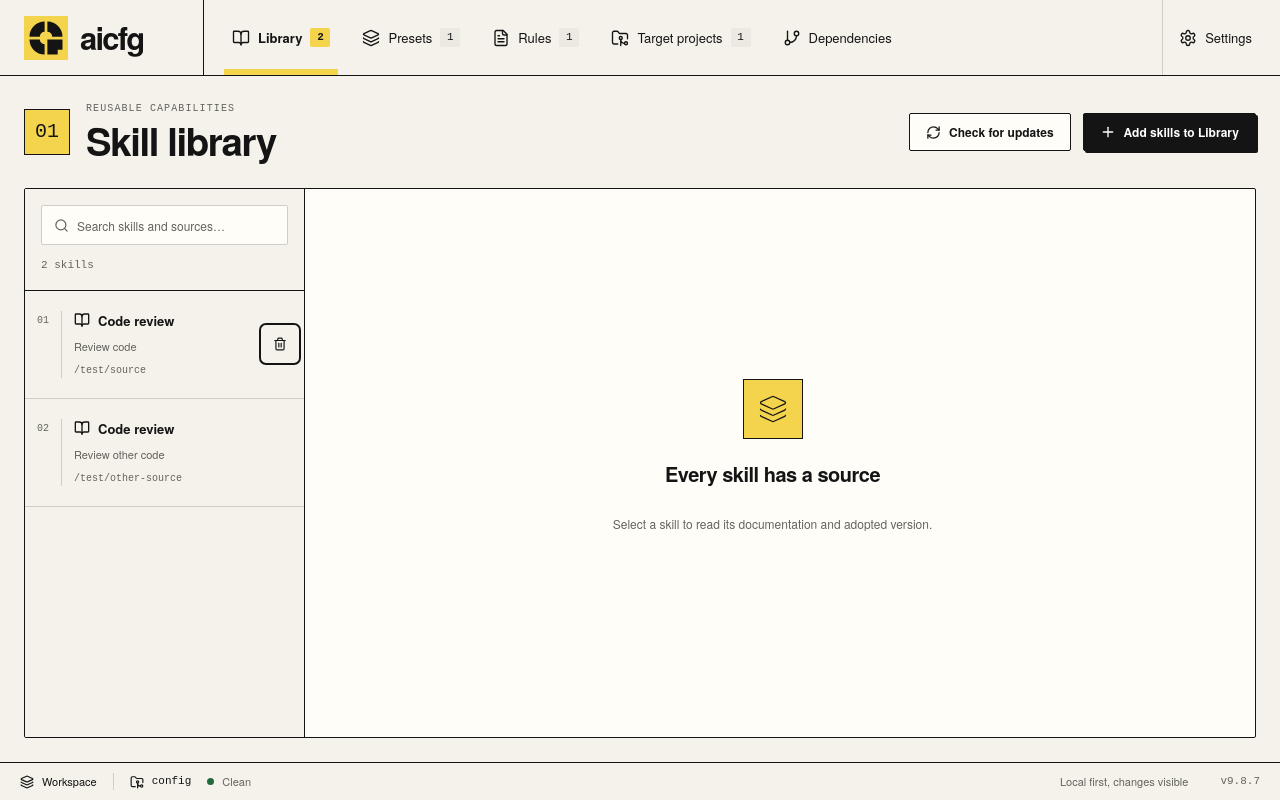
Test case: Deletion request state › keeps failed deletions open and shows the error in the confirmation
This screenshot has width=1280, height=800.
Click the button named "Delete Code review" at {"x": 280, "y": 344}, box x1=264 y1=328 x2=296 y2=360
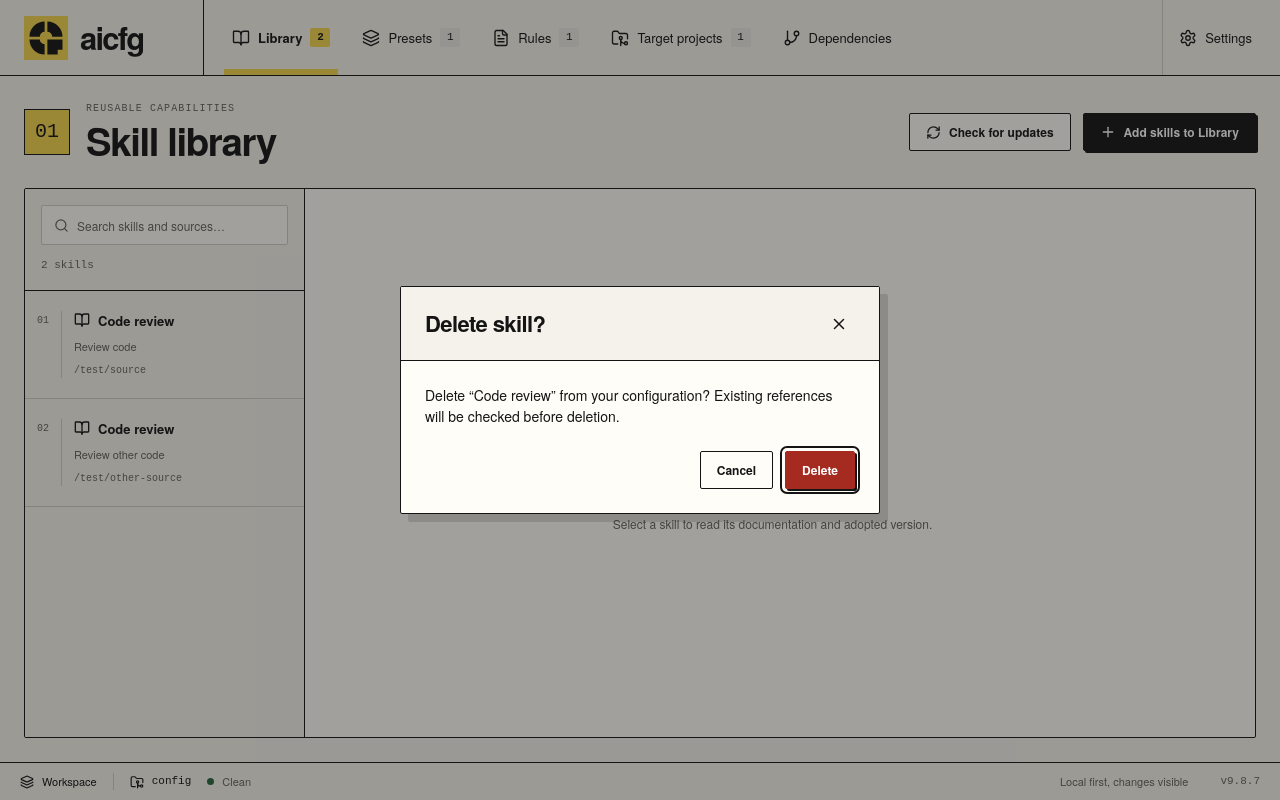
Click the button "Delete" at {"x": 820, "y": 470}, box x1=785 y1=451 x2=855 y2=489
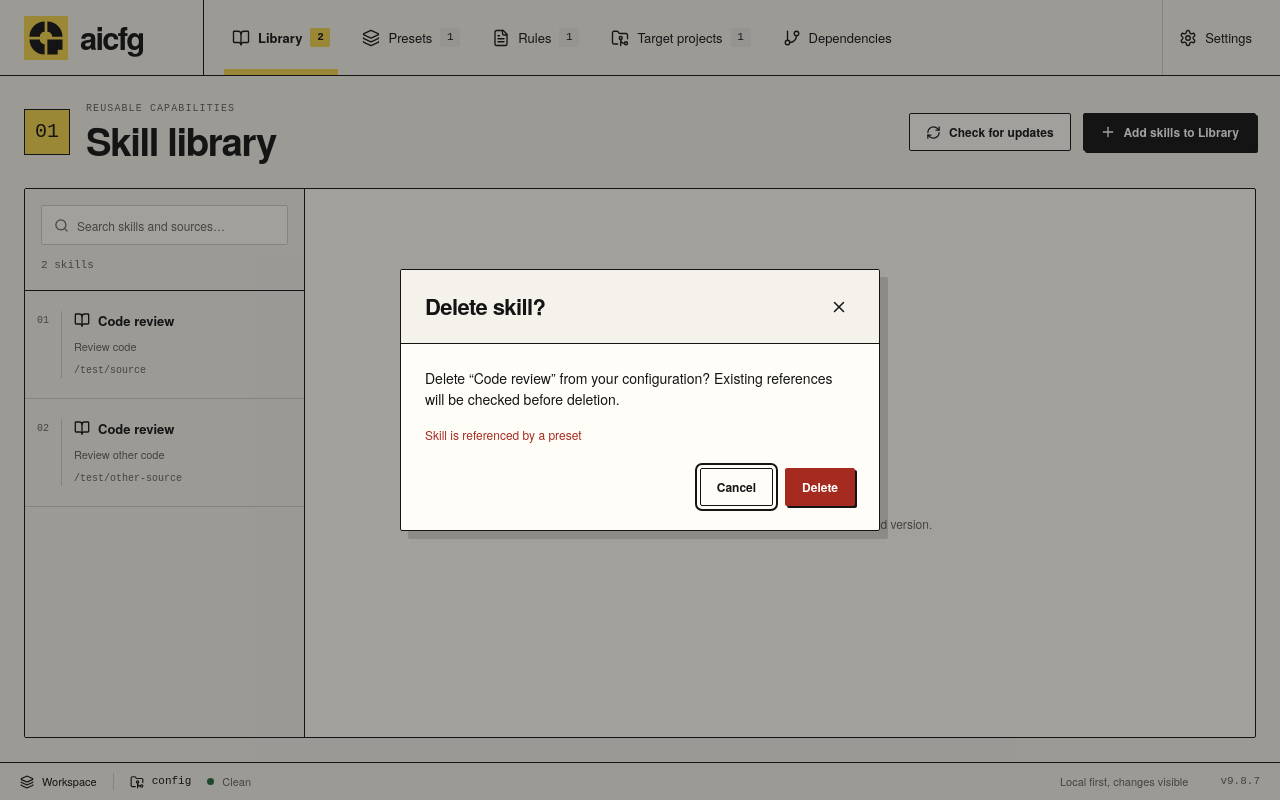
Check: the button "Cancel" is enabled
Check: the message "Skill is referenced by a preset" is shown, box x1=425 y1=426 x2=582 y2=443
Click the button "Cancel" at {"x": 736, "y": 487}, box x1=700 y1=468 x2=773 y2=506
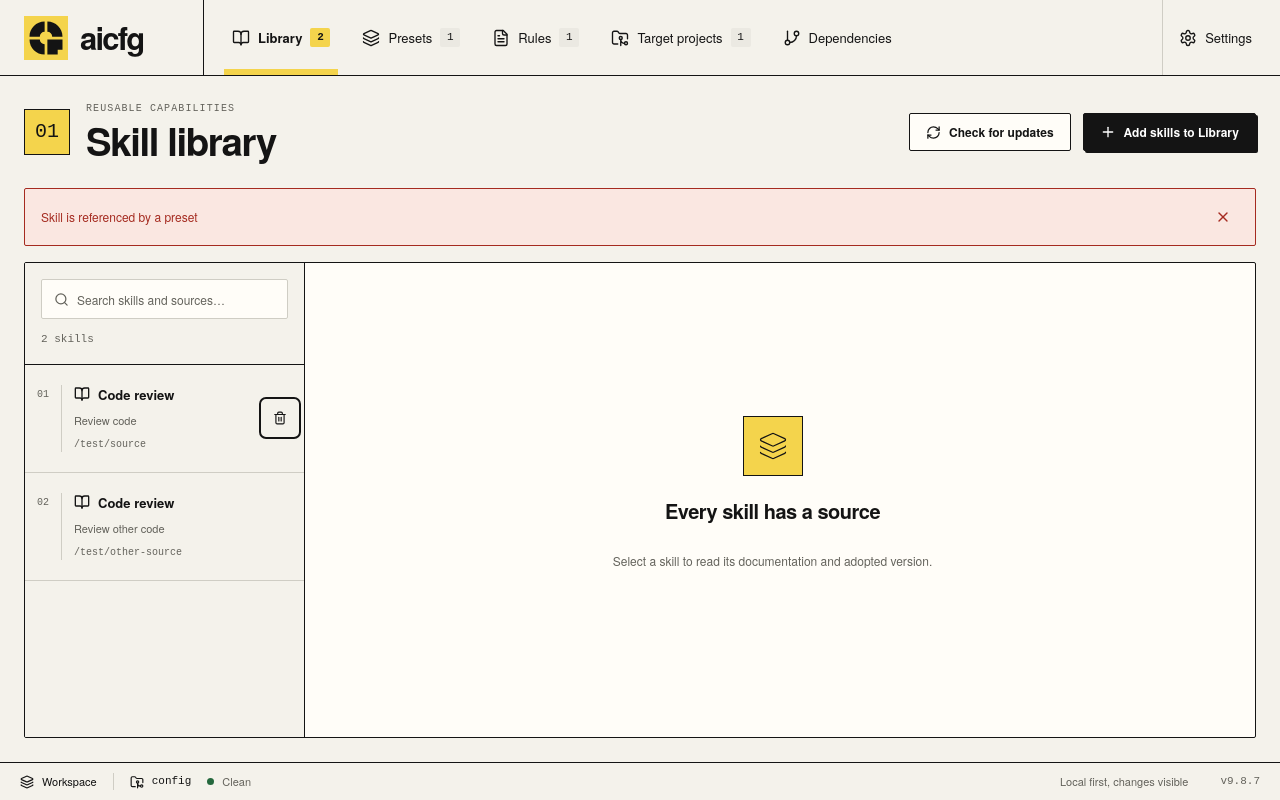
Check: the dialog is gone
